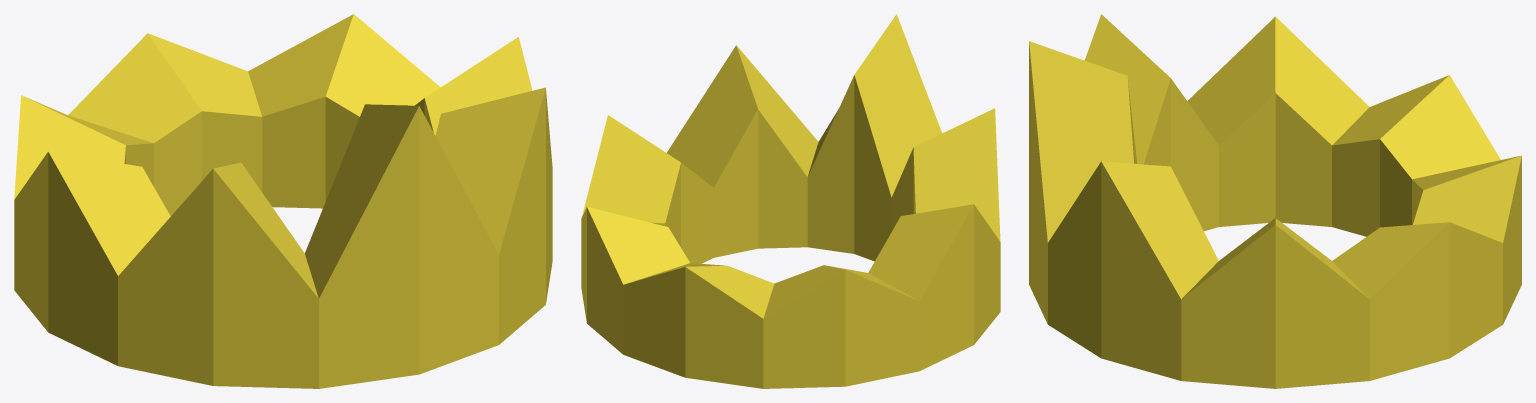
The model's file is playerCrownYellow.fbx.
3 views of the same model, side by side, from view 1: azimuth 30°, elevation 25°; view 2: azimuth 150°, elevation 25°; view 3: azimuth 270°, elevation 25° (orthographic). The views are drawn at different scales.
Parts seen in each view (by area): view 1: PlayerCrown - Yellow; view 2: PlayerCrown - Yellow; view 3: PlayerCrown - Yellow.
Boxes of the visible parts, box(x1,y1,x2,y2) form: PlayerCrown - Yellow: box(14, 14, 552, 388); PlayerCrown - Yellow: box(581, 14, 1000, 388); PlayerCrown - Yellow: box(1029, 14, 1521, 388).
Bounding box in the file's own units: 36.08 × 36.08 × 19.7.
